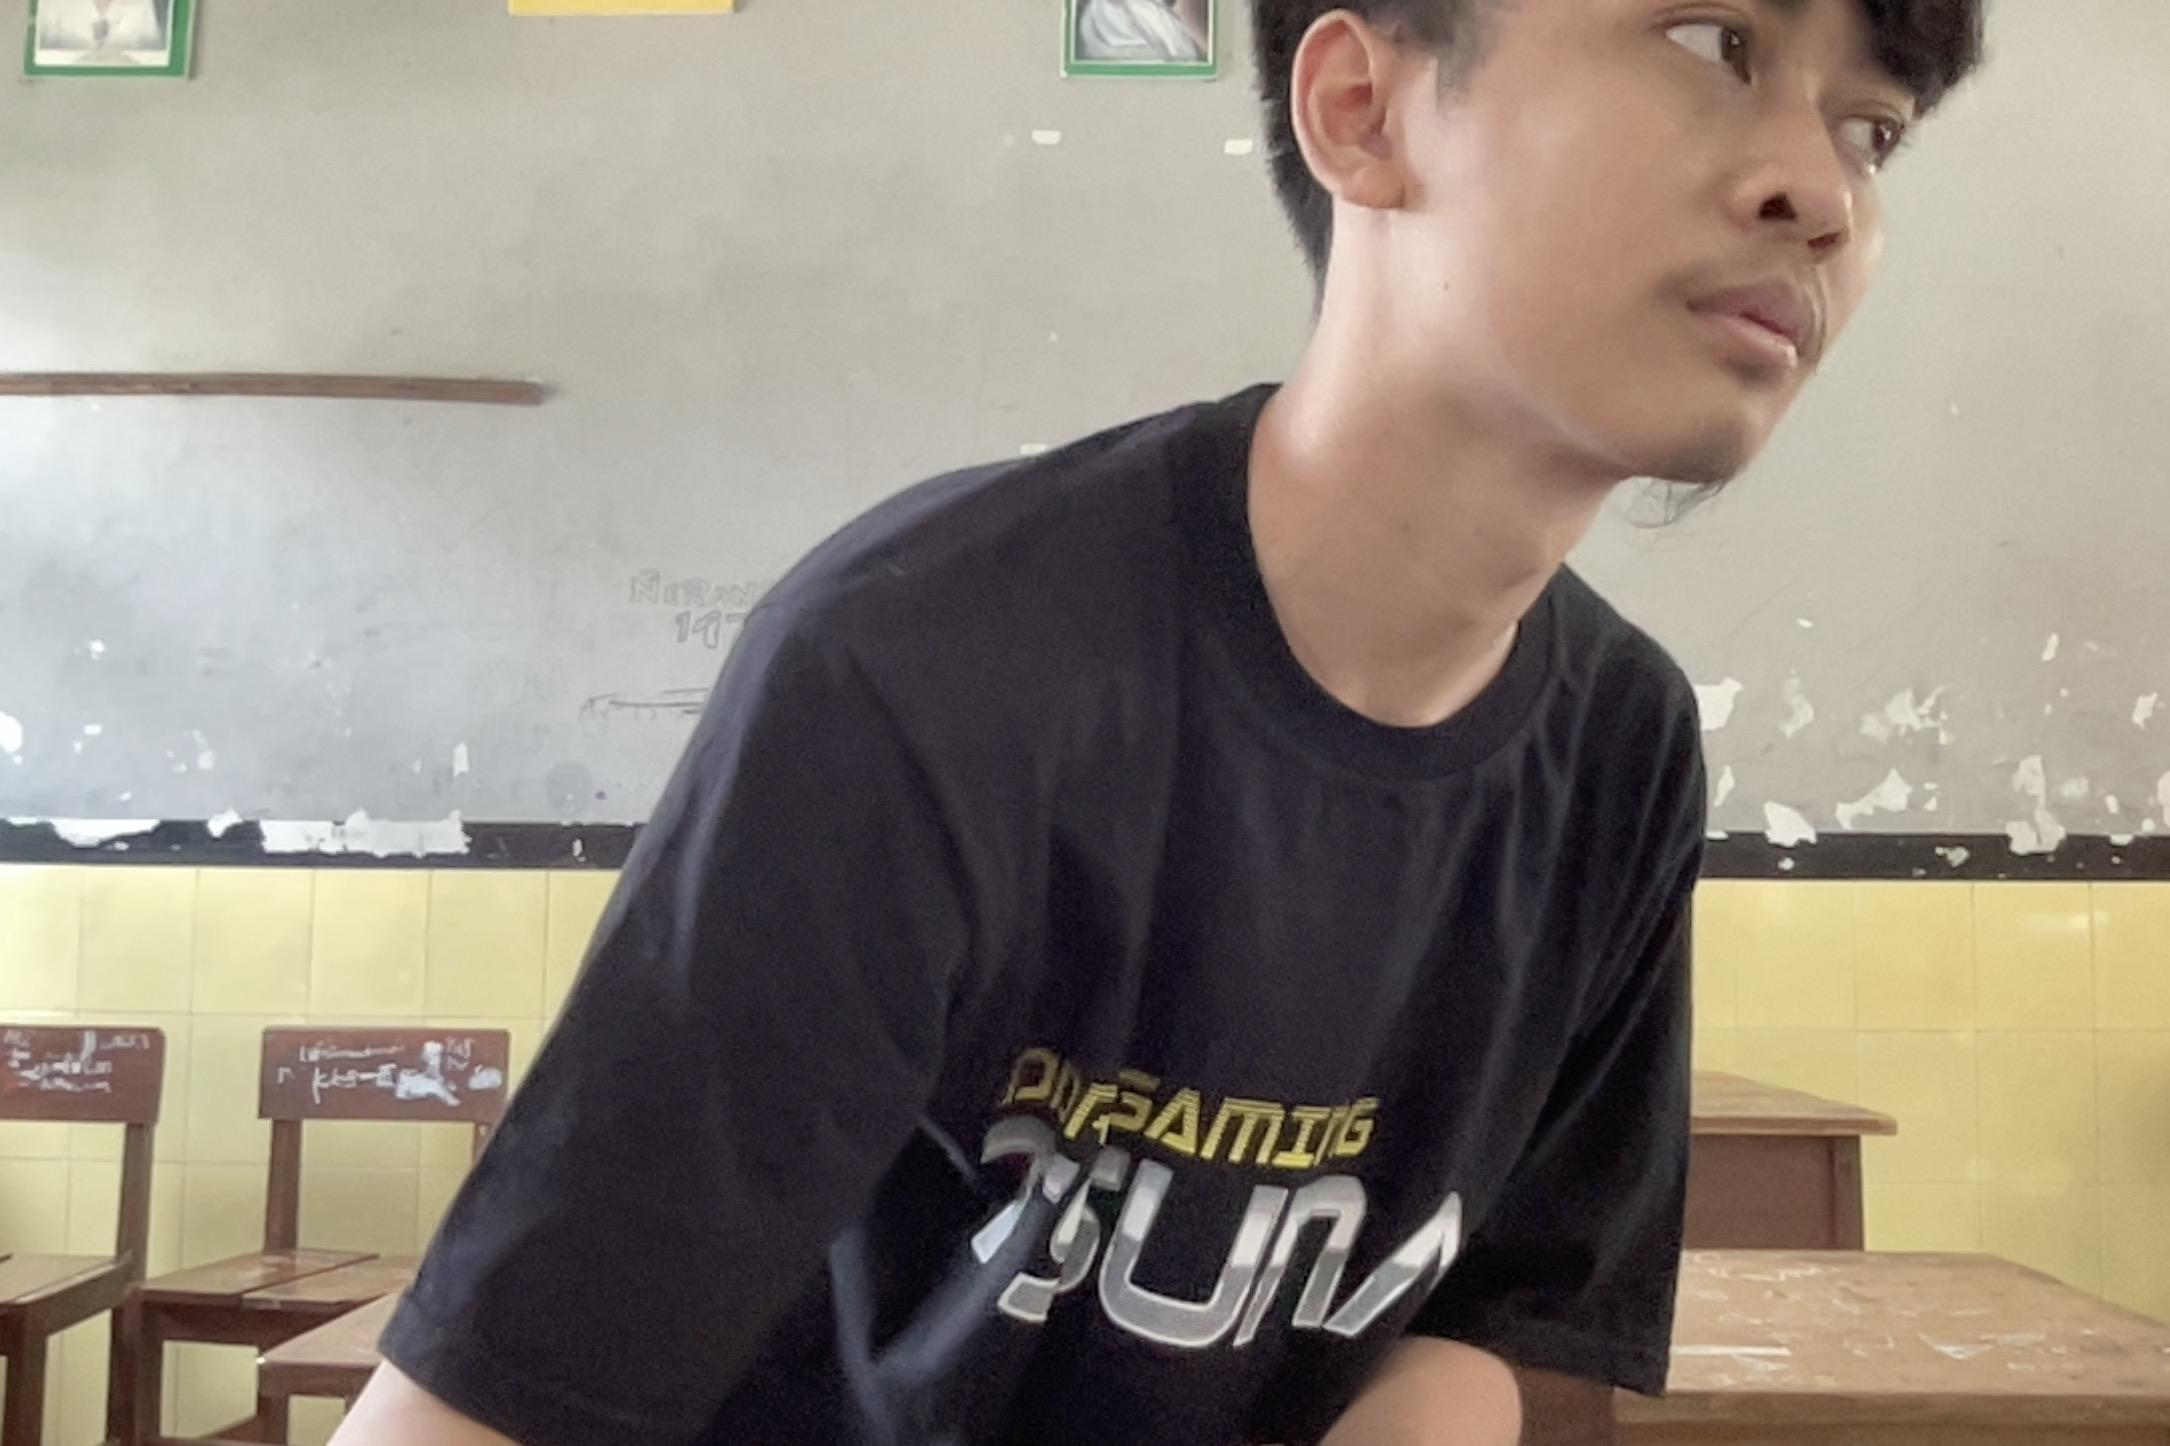cheating: (284, 0, 2017, 1446)
